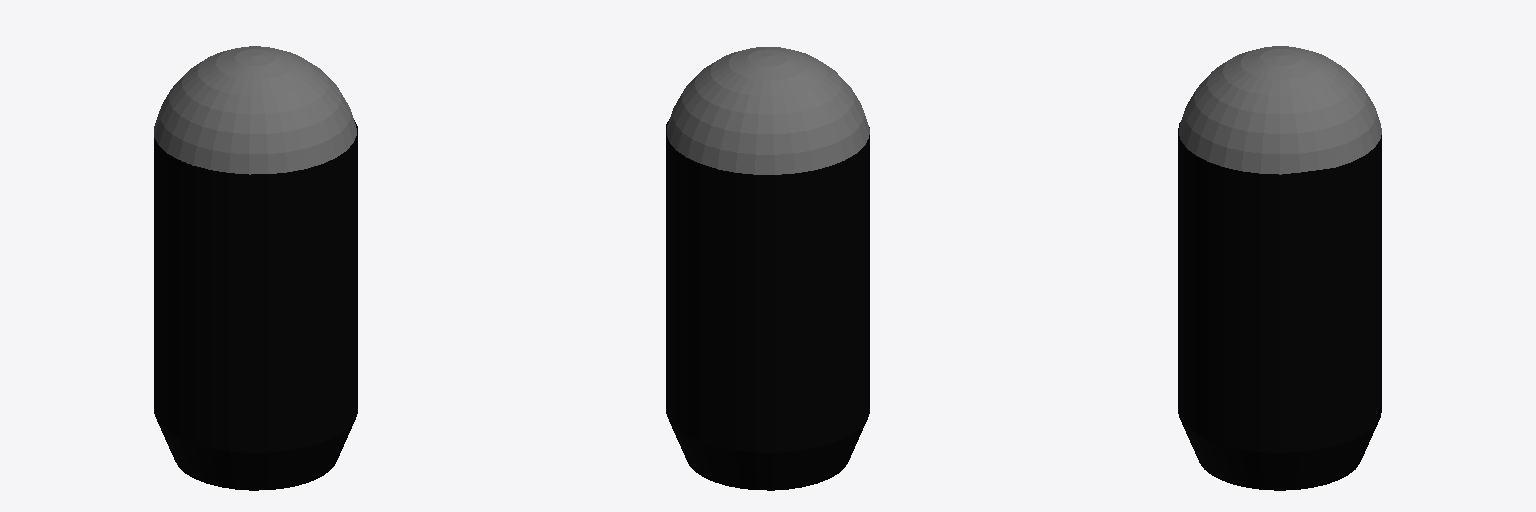
File: drone_round_01.obj
3 views of the same model, side by side, from view 1: azimuth 30°, elevation 25°; view 2: azimuth 150°, elevation 25°; view 3: azimuth 270°, elevation 25° (orthographic).
Parts seen in each view (by area): view 1: Fuselage_Cylinder.001, Cockpit_Dome_Cylinder.002; view 2: Fuselage_Cylinder.001, Cockpit_Dome_Cylinder.002; view 3: Fuselage_Cylinder.001, Cockpit_Dome_Cylinder.002.
Boxes of the visible parts, x1=… form: Fuselage_Cylinder.001: x1=154, y1=120, x2=357, y2=490; Cockpit_Dome_Cylinder.002: x1=154, y1=46, x2=356, y2=174; Fuselage_Cylinder.001: x1=666, y1=119, x2=869, y2=490; Cockpit_Dome_Cylinder.002: x1=667, y1=47, x2=869, y2=174; Fuselage_Cylinder.001: x1=1178, y1=122, x2=1381, y2=490; Cockpit_Dome_Cylinder.002: x1=1179, y1=46, x2=1381, y2=174.
Size of the model in its own units: 4 by 8.63 by 4.